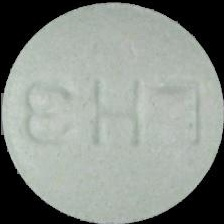0378-2025: (0, 0, 224, 224)
